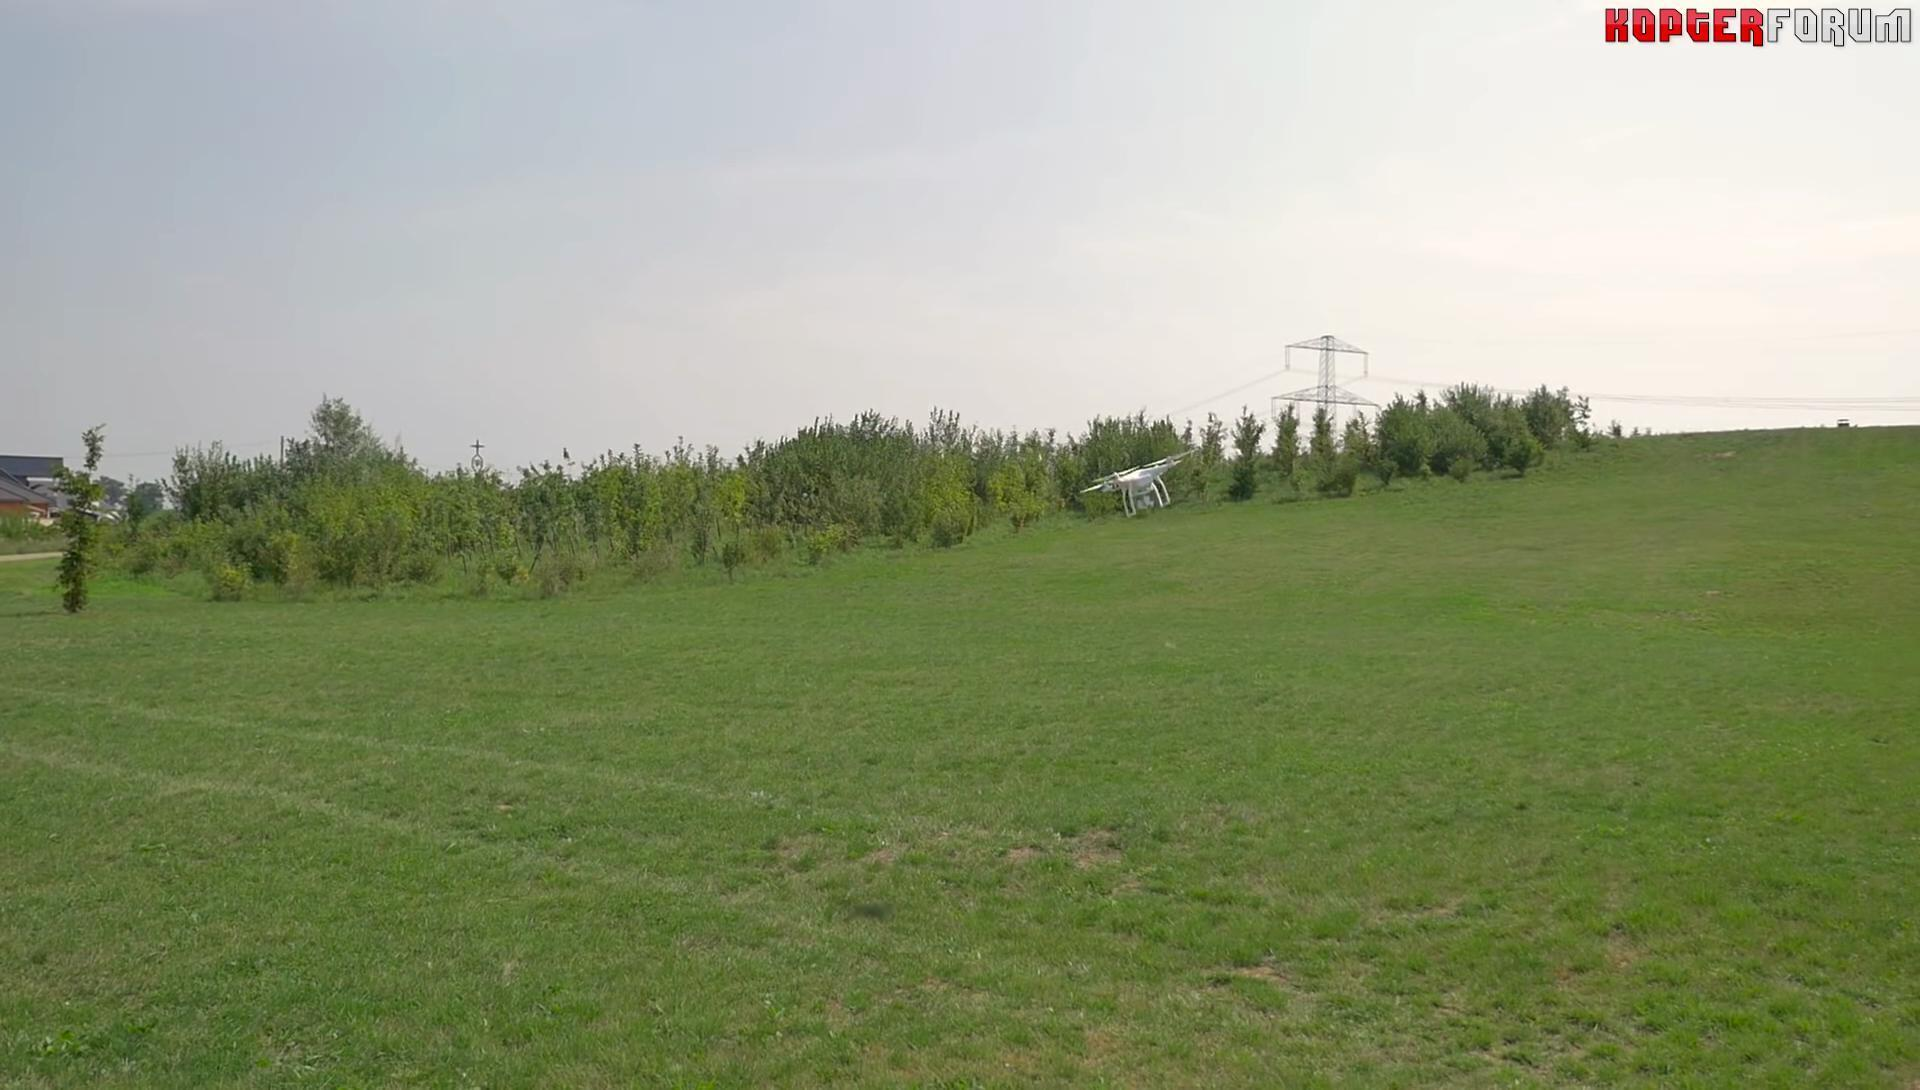drone: (1087, 435, 1201, 517)
